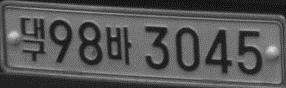0: (175, 26, 200, 72)
3: (145, 25, 169, 70)
4: (205, 29, 233, 73)
5: (237, 29, 263, 74)
8: (77, 20, 103, 66)
9: (48, 18, 73, 62)
대구_V: (20, 16, 46, 61)
바: (106, 26, 132, 64)
